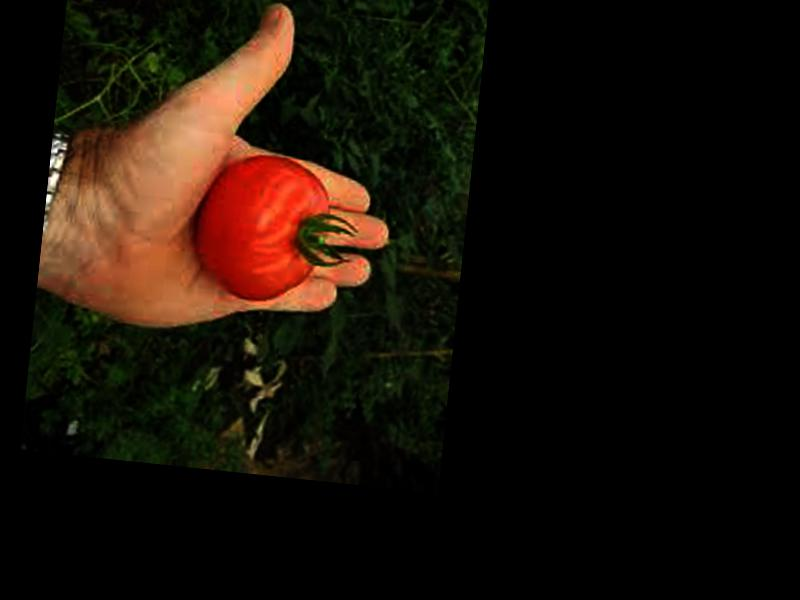Tomato: (190, 147, 332, 309)
